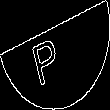P_N: (37, 25, 73, 85)
